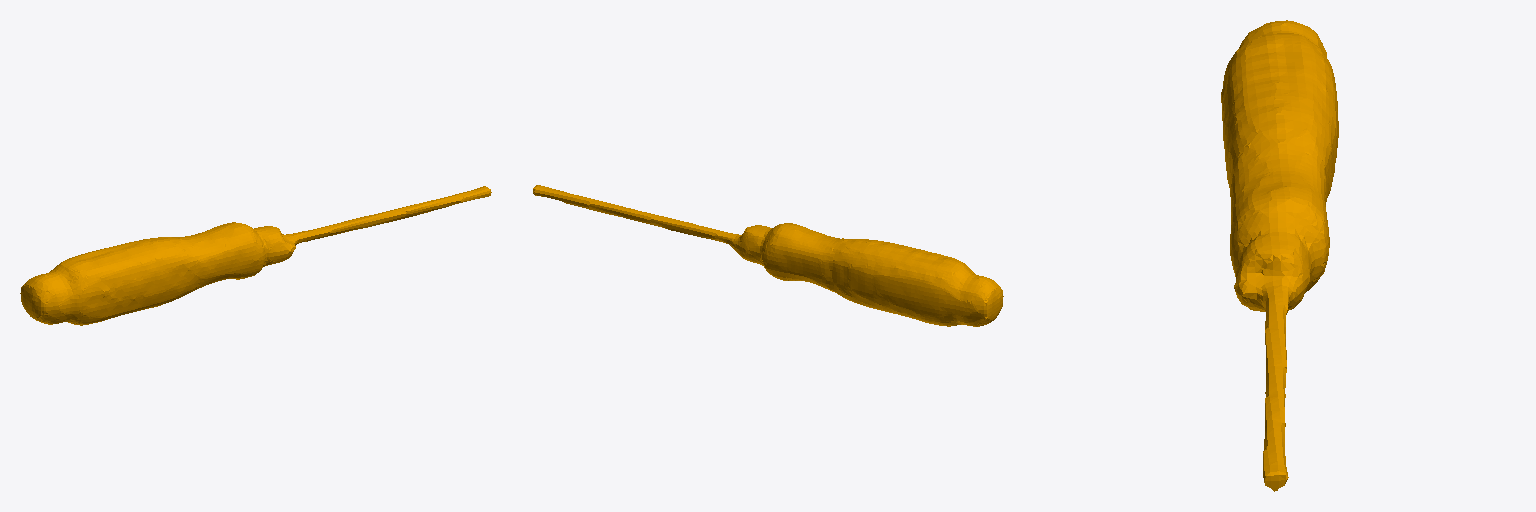
URDF robot description (model.urdf):
<?xml version="1.0" ?>
        <robot name="model.urdf">
        <link name="baseLink">
            <contact>
                <lateral_friction value="0.8"/>
                <rolling_friction value="0.001"/>g
                <contact_cfm value="0.0"/>
                <contact_erp value="1.0"/>
            </contact>
            <inertial>
                <origin xyz="0.04 0.0 0.0" rpy="0 0 0"/>
                <mass value="0.101"/>
                <inertia ixx="0.001" ixy="0" ixz="0" iyy="0.001" iyz="0" izz="0.001"/>
            </inertial>
            <visual>
            <geometry>
                <mesh filename="real_flat_screwdriver.obj" scale="1 1 1"/>
            </geometry>
            <!-- The following material makes the object white in Isaac Gym, so we comment it out. -->
            <!-- <material name="white"> <color rgba="1. 1. 1. 1."/> </material> -->
            </visual>
            <collision>
            <geometry>
                <mesh filename="real_flat_screwdriver.obj" scale="1 1 1"/>
            </geometry>
            </collision>
        </link>
        </robot>

--- Render facts (derived) ---
Views: 3 orthographic renders of the robot side by side, from view 1: azimuth 30°, elevation 25°; view 2: azimuth 150°, elevation 25°; view 3: azimuth 270°, elevation 25°.
Robot: model.urdf — 1 links, 0 joints (none); root link baseLink; default pose: all joints at 0.
Links seen in each view (by area): view 1: baseLink; view 2: baseLink; view 3: baseLink.
Boxes of the visible links, x1,y1,x2,y2 form: baseLink: (20, 186, 491, 325); baseLink: (533, 185, 1003, 326); baseLink: (1221, 20, 1338, 491).
Size in the robot's own frame: 0.2703 by 0.0311 by 0.0352 metres.
Meshes: 1 distinct files referenced, 1 mesh visuals loaded (1 OBJ).
